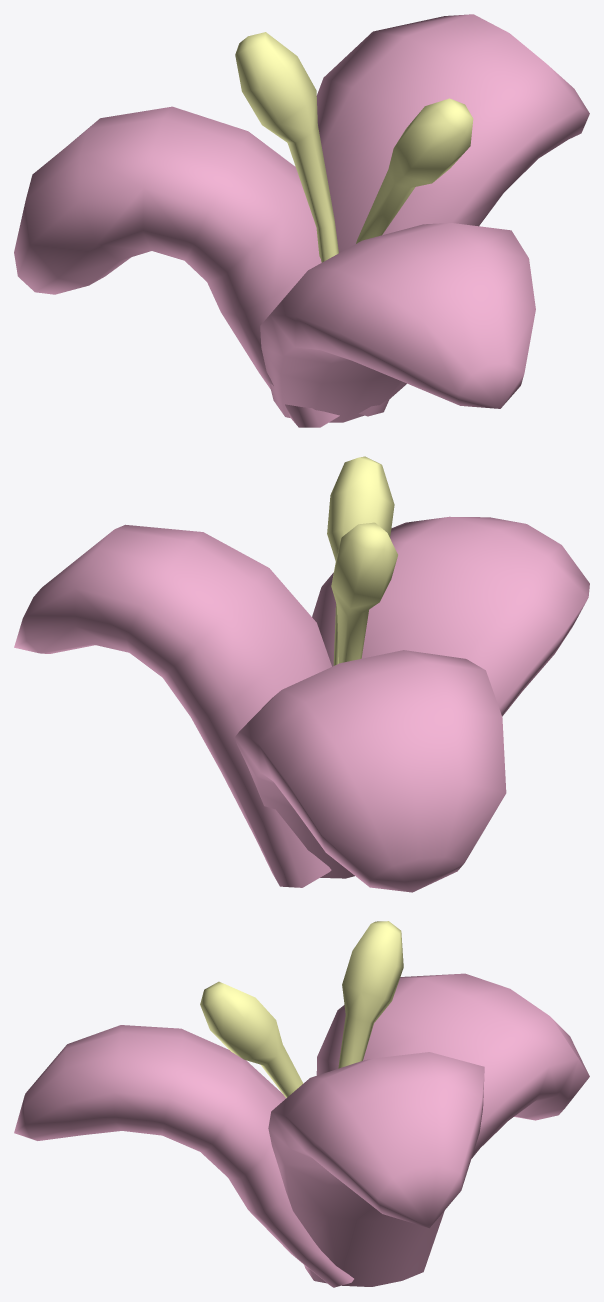
The model's file is Flower_06.fbx.
The picture shows the model from 3 angles, top to bottom: view 1: azimuth 30°, elevation 25°; view 2: azimuth 150°, elevation 25°; view 3: azimuth 270°, elevation 25°; orthographic projection. The views are drawn at different scales.
Parts seen in each view (by area): view 1: polySurface677; view 2: polySurface677; view 3: polySurface677.
Part boxes in pixels (x1=…): polySurface677: x1=14, y1=14, x2=589, y2=427; polySurface677: x1=14, y1=456, x2=589, y2=892; polySurface677: x1=14, y1=921, x2=589, y2=1287.
Size of the model in its own units: 53.4 by 36.85 by 58.69.
